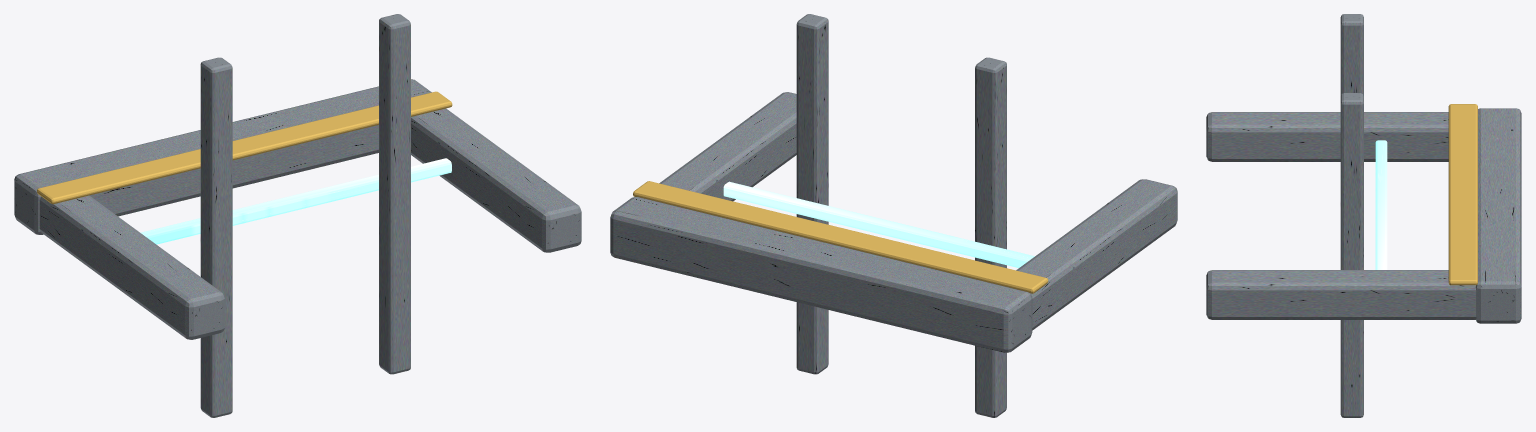
File: access_gate.glb
The picture shows the model from 3 angles, left to right: view 1: azimuth 30°, elevation 25°; view 2: azimuth 150°, elevation 25°; view 3: azimuth 270°, elevation 25°; orthographic projection. The views are drawn at different scales.
Visible parts, largest first — view 1: GateLintel, GatePostL, GateStrut1, GatePostR, GateStrut0, GateWarning, GateBar; view 2: GateLintel, GatePostL, GateStrut1, GateStrut0, GateWarning, GatePostR, GateBar; view 3: GatePostR, GatePostL, GateLintel, GateStrut1, GateWarning, GateStrut0, GateBar.
Boxes of the visible parts, box(x1,y1,x2,y2) form: GateLintel: box(14, 79, 431, 234); GatePostL: box(39, 195, 224, 339); GateStrut1: box(379, 14, 410, 374); GatePostR: box(411, 108, 581, 252); GateStrut0: box(200, 57, 232, 417); GateWarning: box(37, 91, 452, 204); GateBar: box(140, 158, 451, 244); GateLintel: box(610, 197, 1032, 352); GatePostL: box(1016, 179, 1177, 330); GateStrut1: box(796, 14, 828, 374); GateStrut0: box(975, 57, 1006, 417); GateWarning: box(633, 181, 1048, 293); GatePostR: box(659, 92, 796, 201); GateBar: box(723, 181, 1034, 267); GatePostR: box(1206, 270, 1476, 319); GatePostL: box(1206, 112, 1448, 161); GateLintel: box(1475, 108, 1521, 323); GateStrut1: box(1340, 93, 1363, 417); GateWarning: box(1448, 104, 1477, 285); GateStrut0: box(1340, 14, 1363, 95); GateBar: box(1375, 140, 1387, 269).
Size of the model in its own units: 7.2 by 6 by 5.4.
3 materials, 2 textured.
